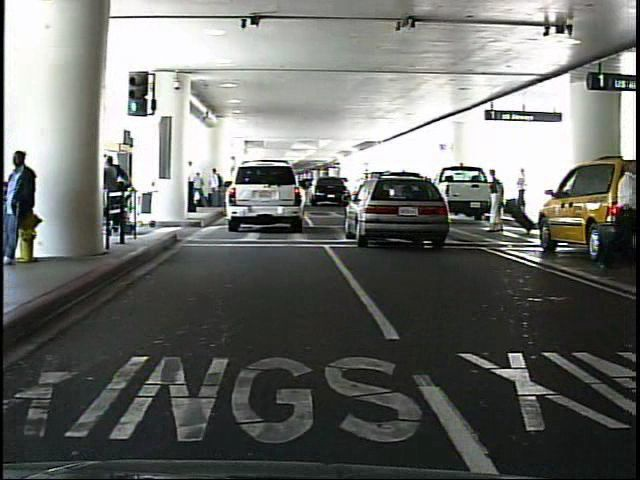person: (3, 148, 44, 266), (609, 156, 640, 263), (487, 166, 508, 233), (518, 166, 531, 216), (211, 167, 226, 209)
